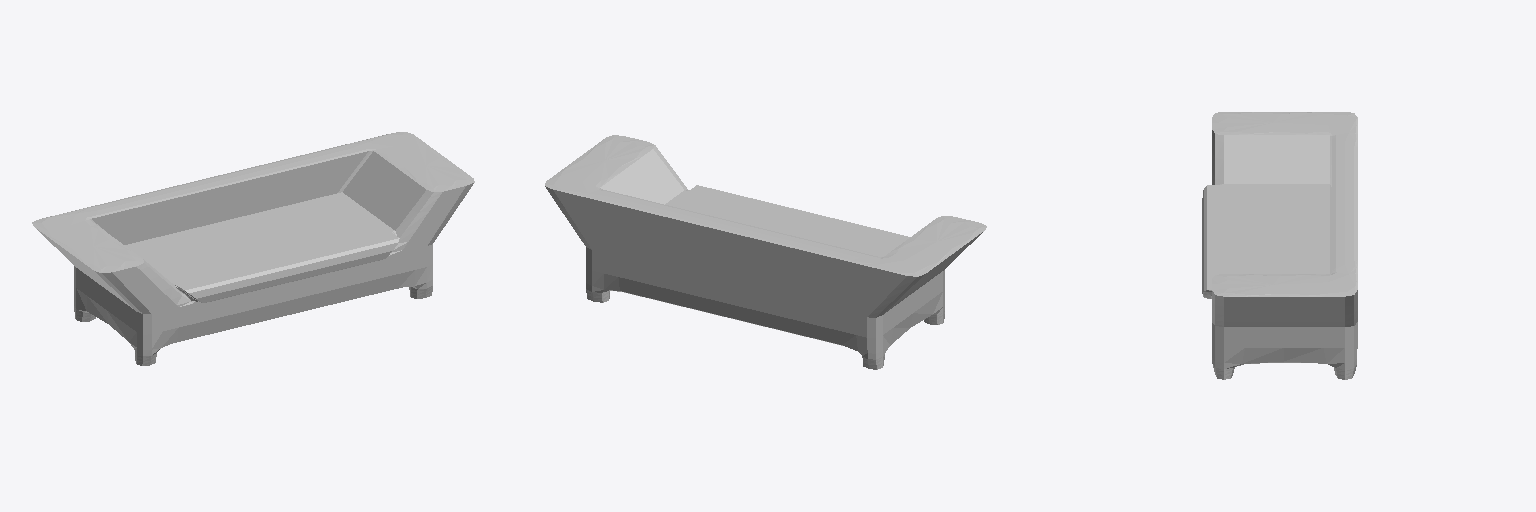
File: sofaBig.obj
3 renders of one model, left to right at view 1: azimuth 30°, elevation 25°; view 2: azimuth 150°, elevation 25°; view 3: azimuth 270°, elevation 25°, orthographic.
Parts seen in each view (by area): view 1: pCube40; view 2: pCube40; view 3: pCube40.
Boxes of the visible parts, box(x1,y1,x2,y2) form: pCube40: box(32, 132, 474, 365); pCube40: box(545, 135, 986, 369); pCube40: box(1202, 112, 1357, 379).
Bounding box in the file's own units: 9.75 × 2.58 × 3.45.